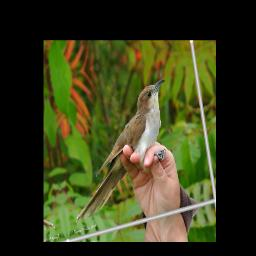Cuckoo: (59, 78, 183, 223)
